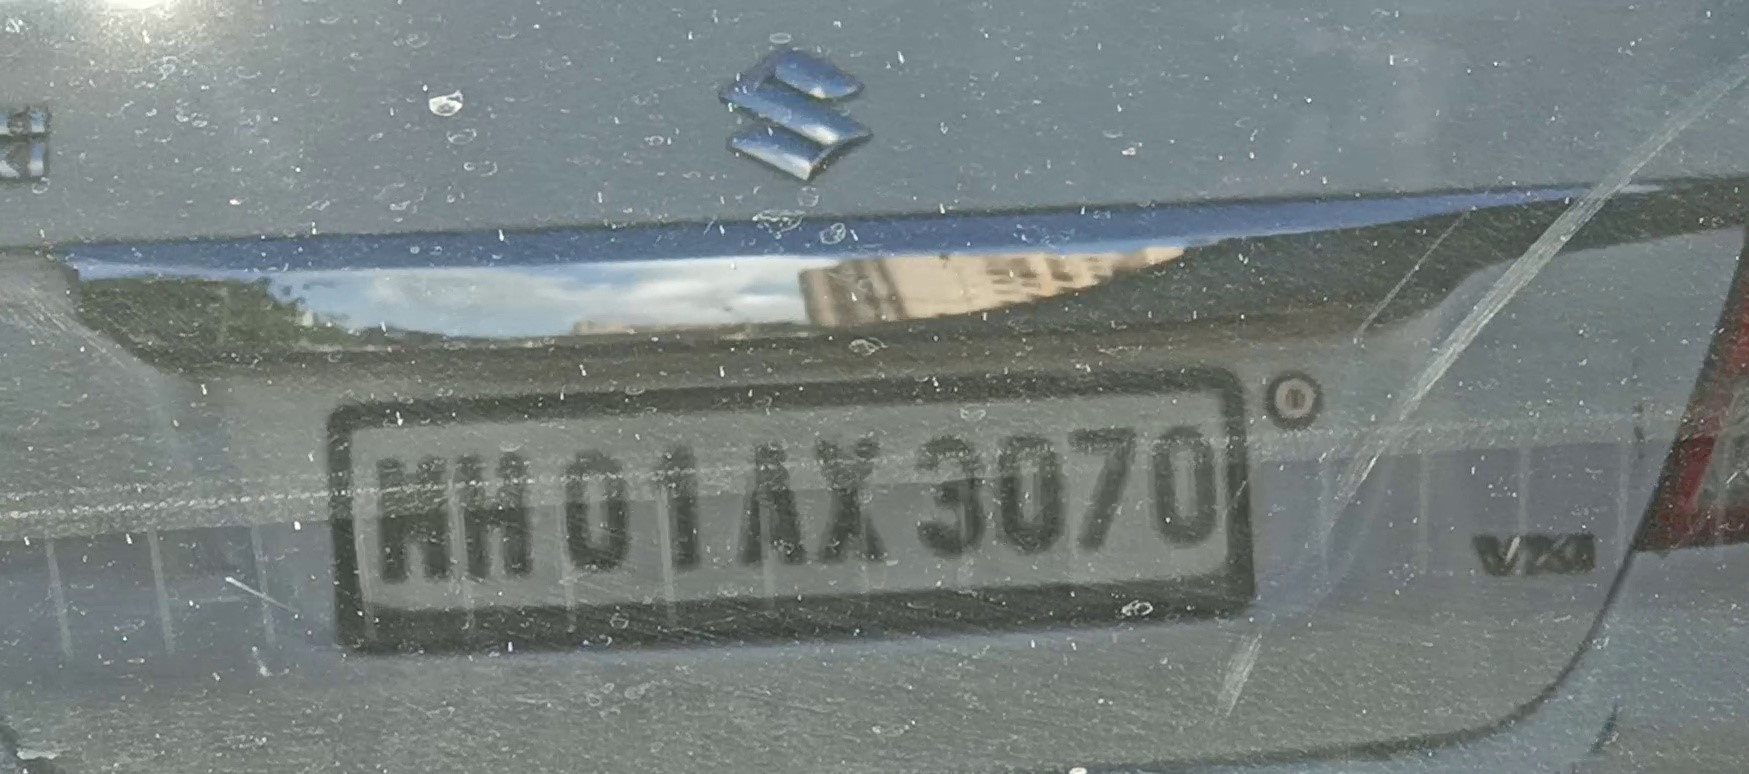MH01AX3070: (350, 388, 1239, 608)
